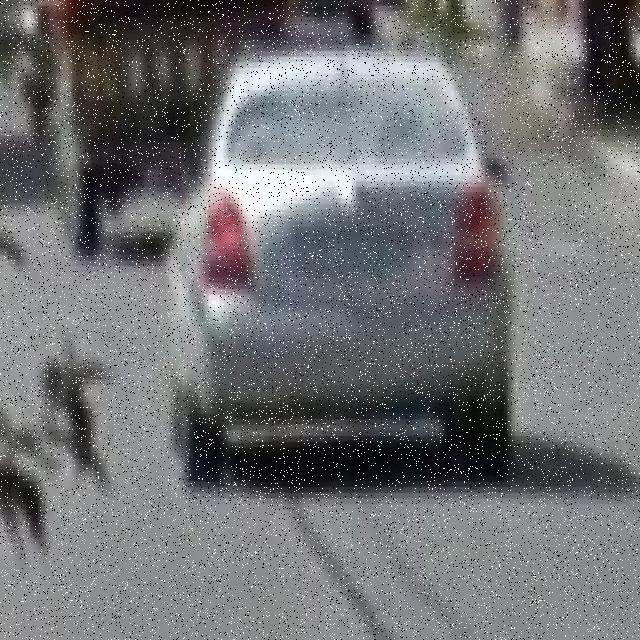cars: (168, 57, 518, 460)
